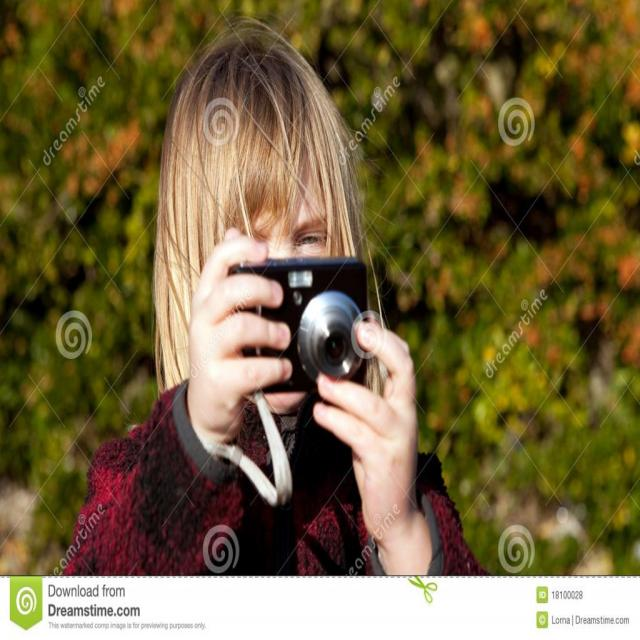nomask: (221, 148, 341, 407)
